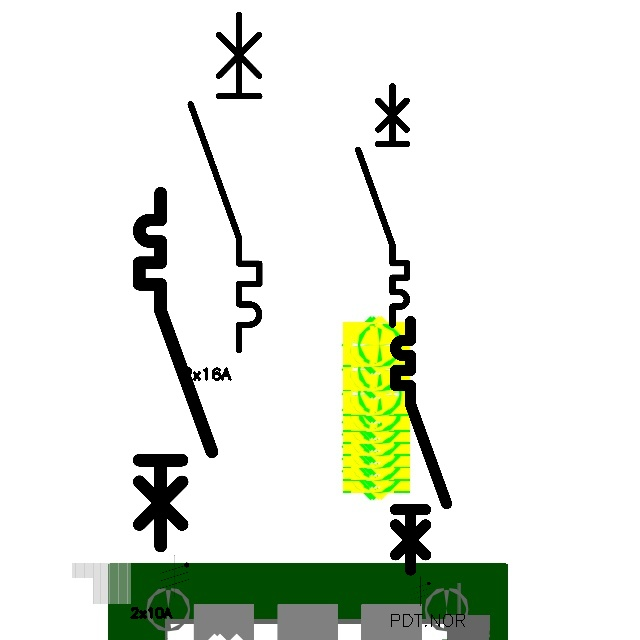interruptor_termomagnetico: (130, 184, 221, 555), (182, 6, 268, 359), (389, 315, 453, 576), (352, 80, 413, 331)
